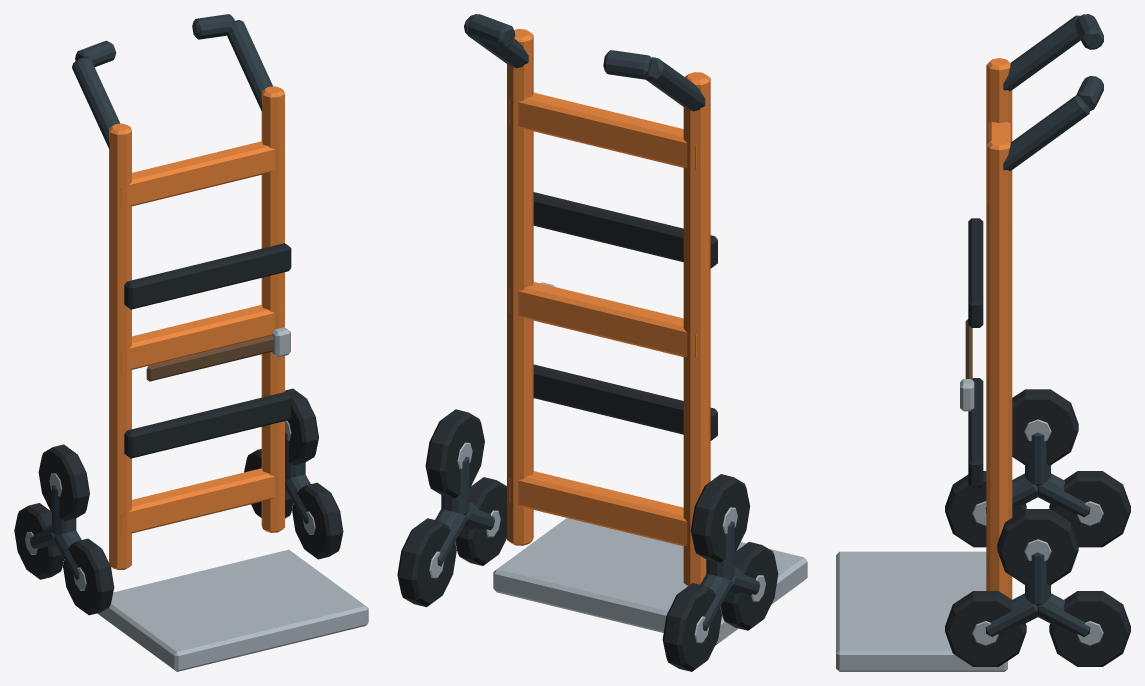
File: b14_stair_climbing_appliance_dolly.glb
3 renders of one model, left to right at view 1: azimuth 30°, elevation 25°; view 2: azimuth 150°, elevation 25°; view 3: azimuth 270°, elevation 25°, orthographic. The views are drawn at different scales.
Parts seen in each view (by area): view 1: b14_stair_climbing_appliance_dolly; view 2: b14_stair_climbing_appliance_dolly; view 3: b14_stair_climbing_appliance_dolly.
Part boxes in pixels (x1,y1,x2,y2): b14_stair_climbing_appliance_dolly: (14, 14, 368, 671); b14_stair_climbing_appliance_dolly: (397, 14, 807, 671); b14_stair_climbing_appliance_dolly: (836, 14, 1130, 671).
Size of the model in its own units: 0.722 by 1.46 by 0.6862.
